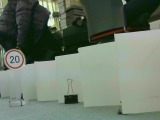speed_20: (1, 48, 27, 70)
